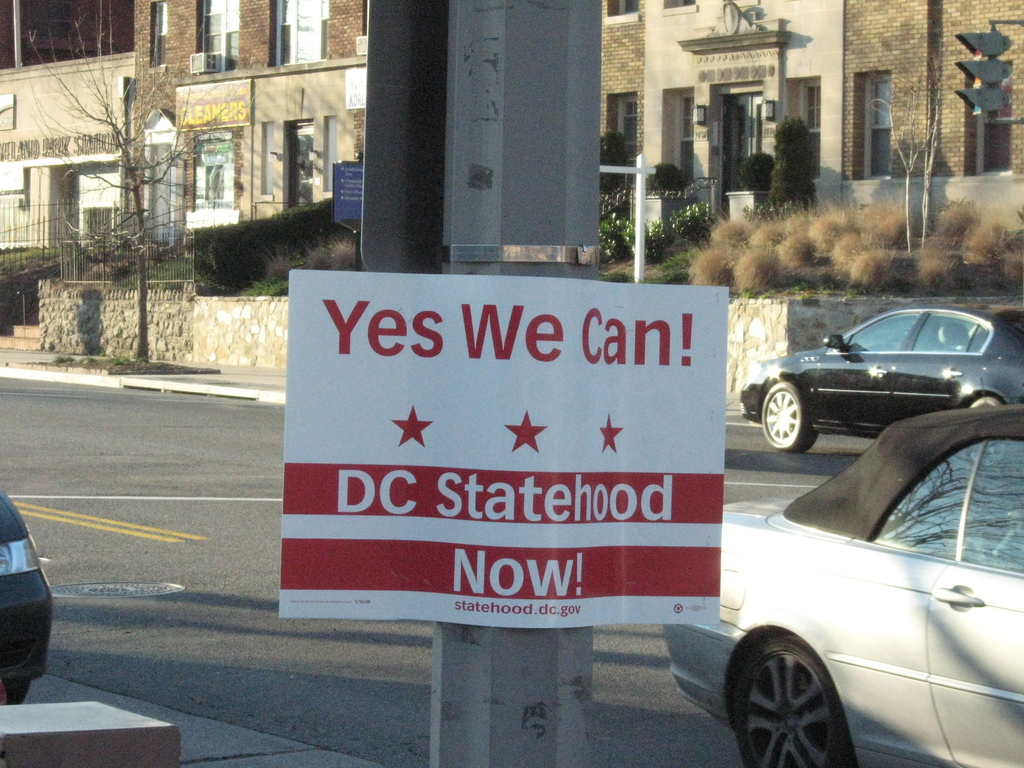Car: (662, 404, 1023, 767), (753, 302, 1013, 452), (0, 478, 53, 705)
